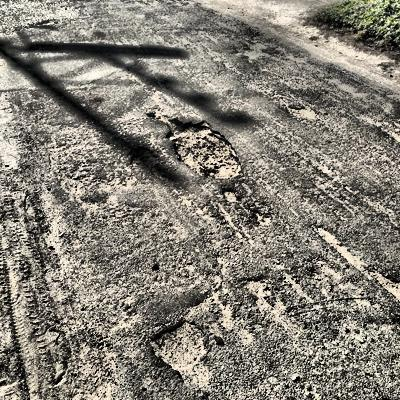pothole: (149, 109, 245, 181), (147, 318, 213, 386), (128, 144, 169, 182), (373, 267, 399, 302), (284, 103, 317, 121)
